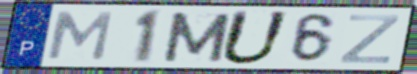1: (133, 8, 168, 66)
6: (286, 12, 337, 65)
M: (160, 11, 234, 64), (43, 10, 116, 62)
U: (216, 8, 294, 66)
Z: (337, 13, 403, 66)
